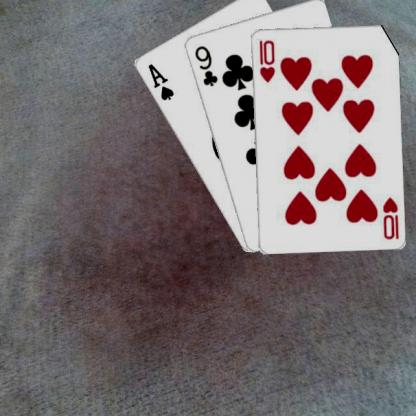10H: (379, 194, 400, 240), (256, 37, 276, 84)
9C: (191, 43, 219, 88)
AS: (144, 61, 175, 102)
